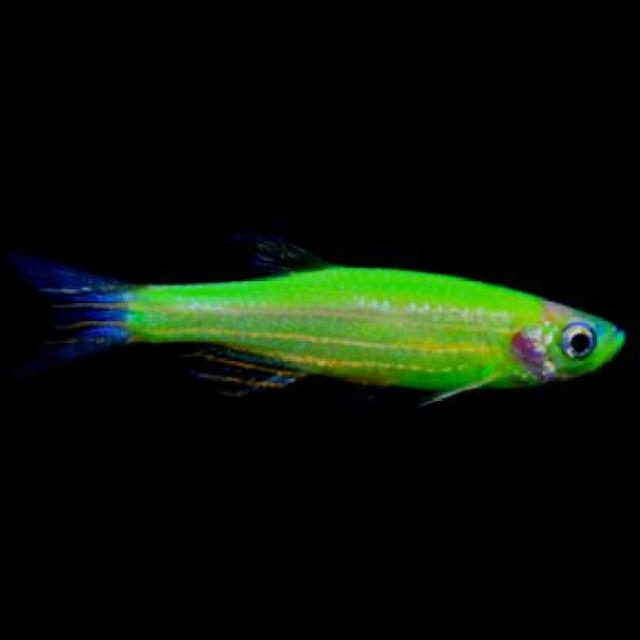ZebraFish: (6, 229, 626, 405)
